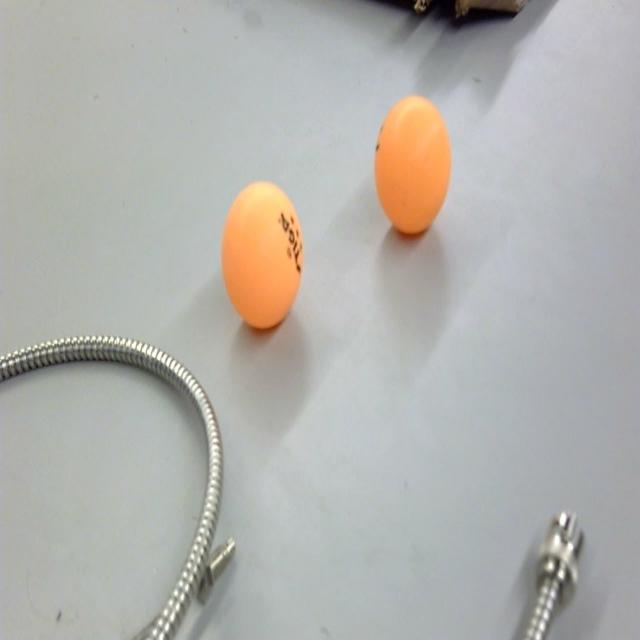ball: (220, 177, 304, 334), (373, 94, 452, 240)
